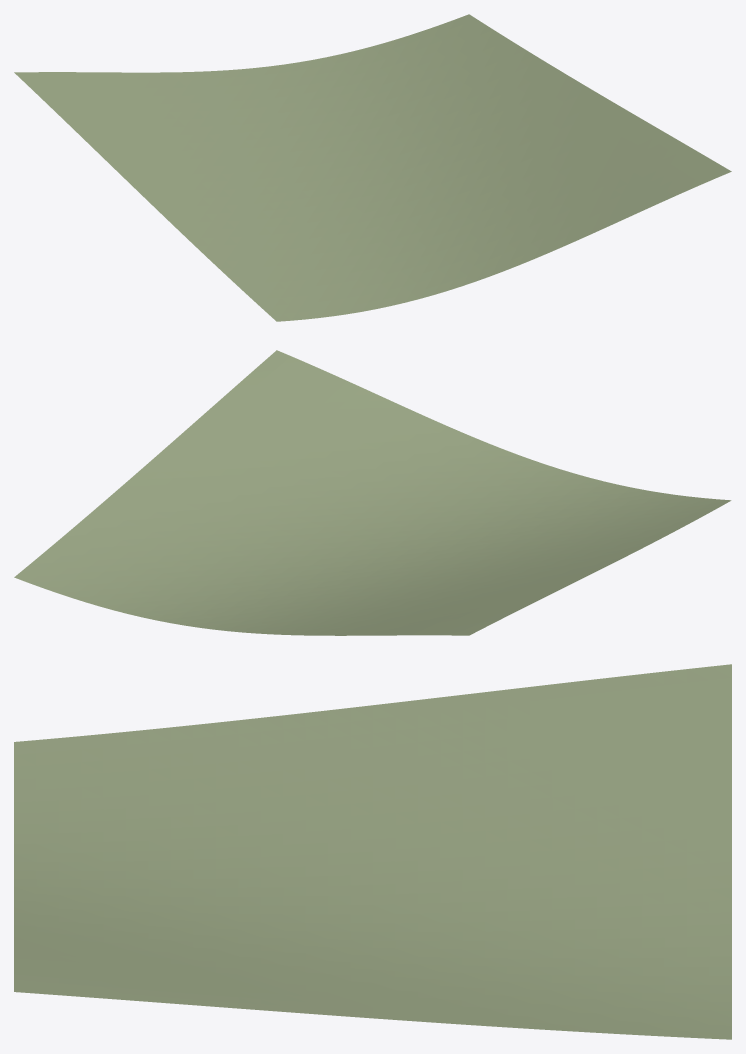
File: expanse-5-28.glb
The picture shows the model from 3 angles, top to bottom: view 1: azimuth 30°, elevation 25°; view 2: azimuth 150°, elevation 25°; view 3: azimuth 270°, elevation 25°; orthographic projection. The views are drawn at different scales.
Parts seen in each view (by area): view 1: expanse-5-28; view 2: expanse-5-28; view 3: expanse-5-28.
Boxes of the visible parts, x1,y1,x2,y2 form: expanse-5-28: [14, 14, 731, 321]; expanse-5-28: [14, 350, 731, 635]; expanse-5-28: [14, 664, 731, 1039].
Size of the model in its own units: 256 by 37.2 by 256.
